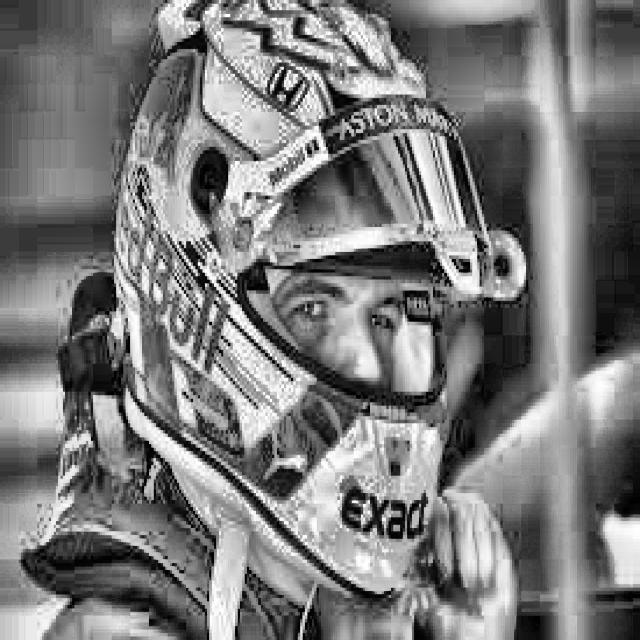Helmet: (112, 0, 512, 609)
